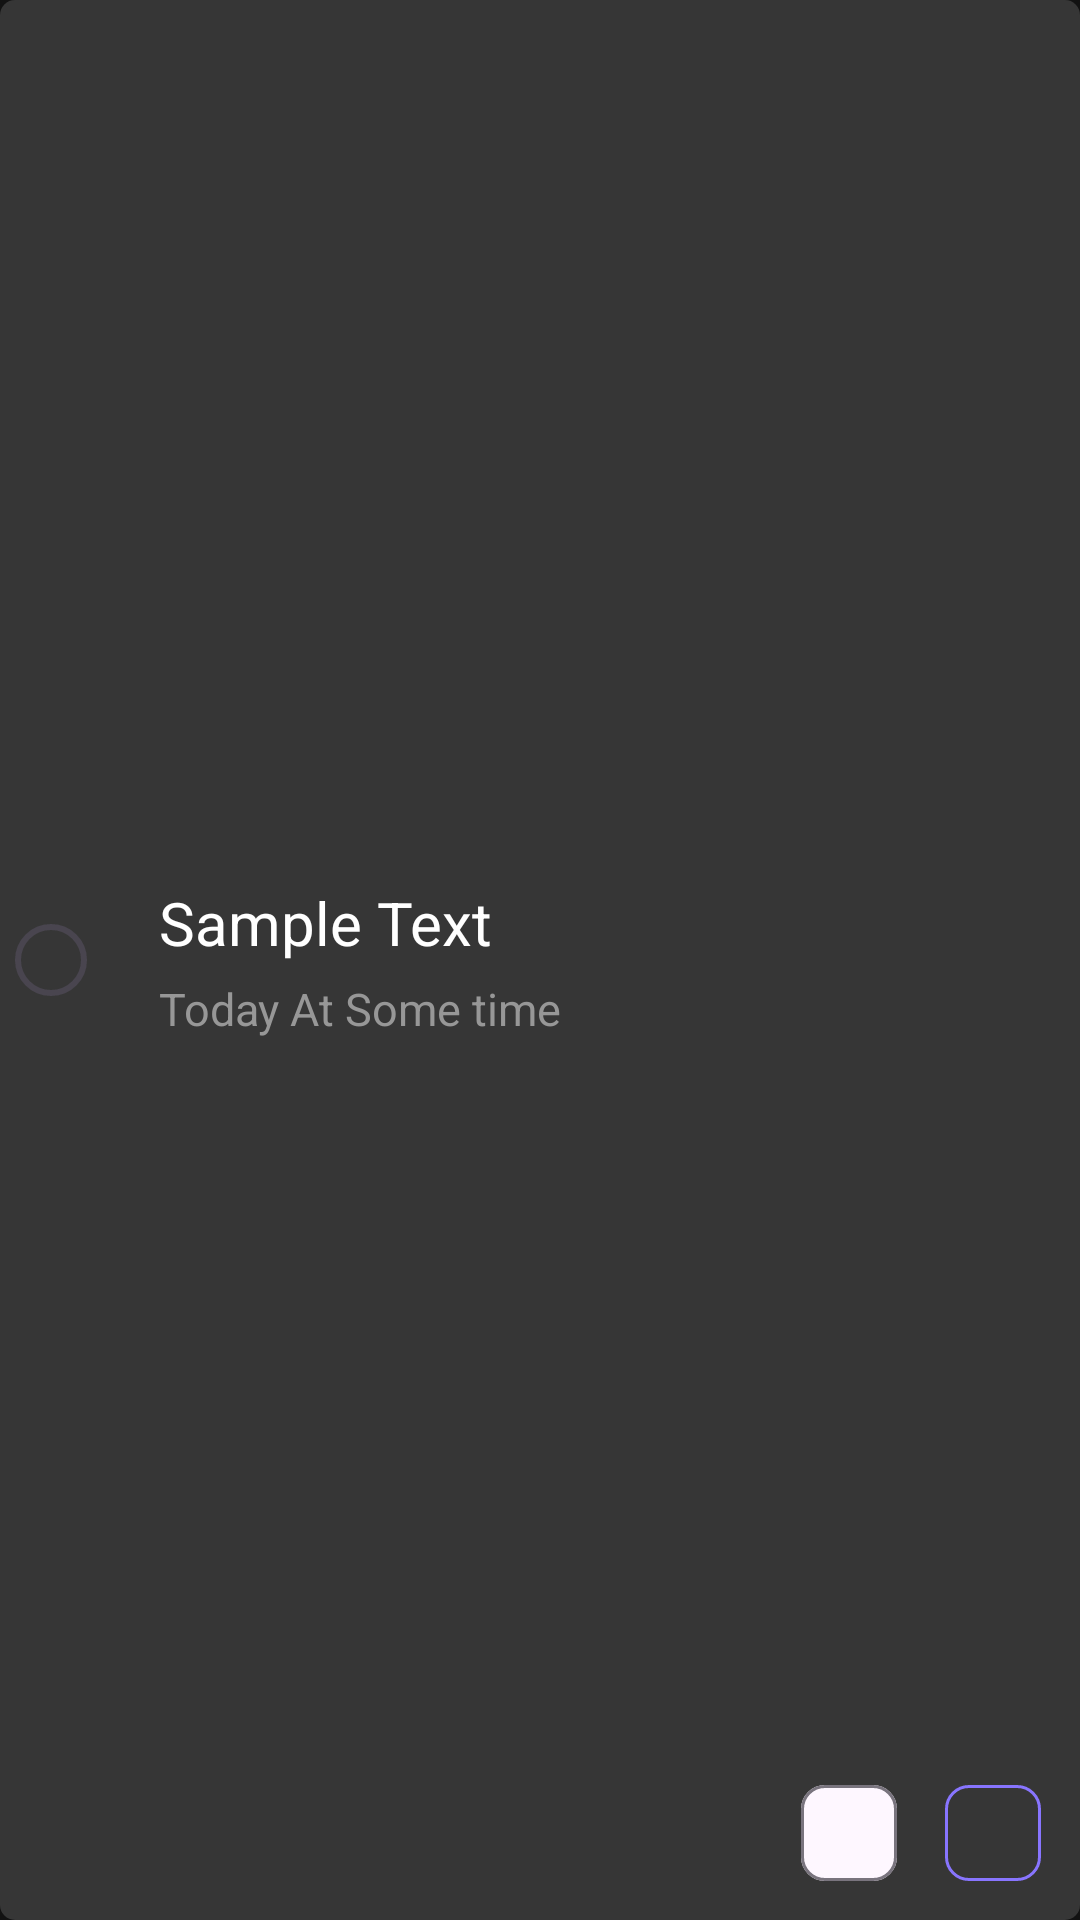

Where to tap for icons on this 1080×1920 app screen, as point (x, y):
circular checkbox: point (51, 960)
